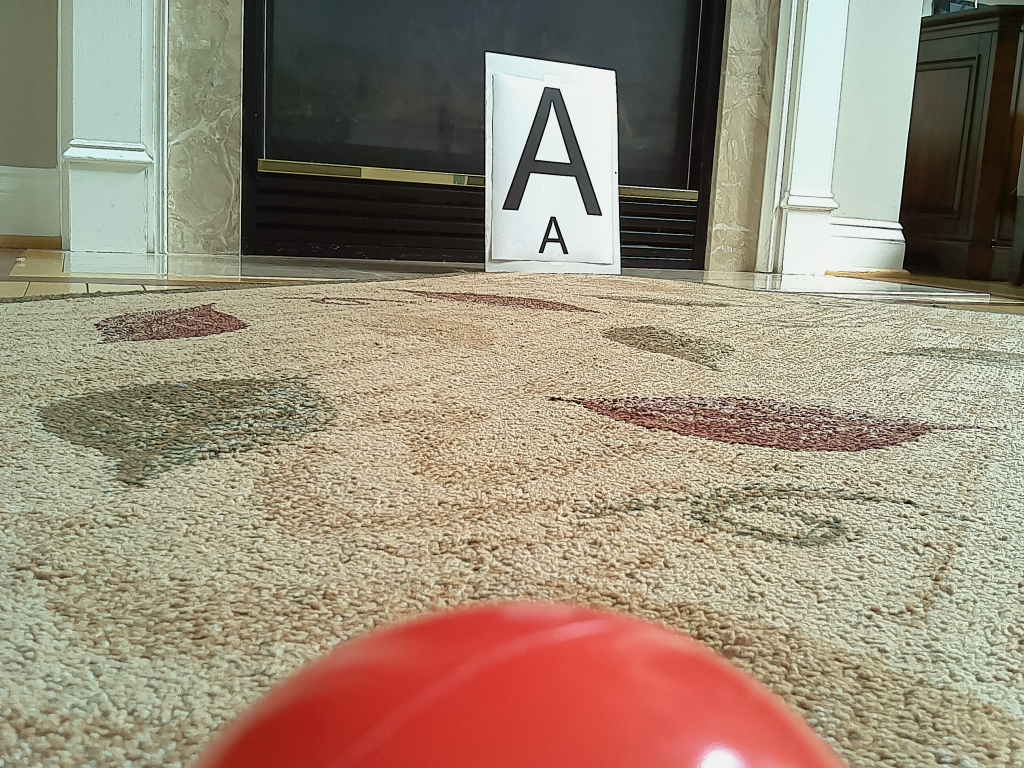letter: (503, 88, 604, 216)
